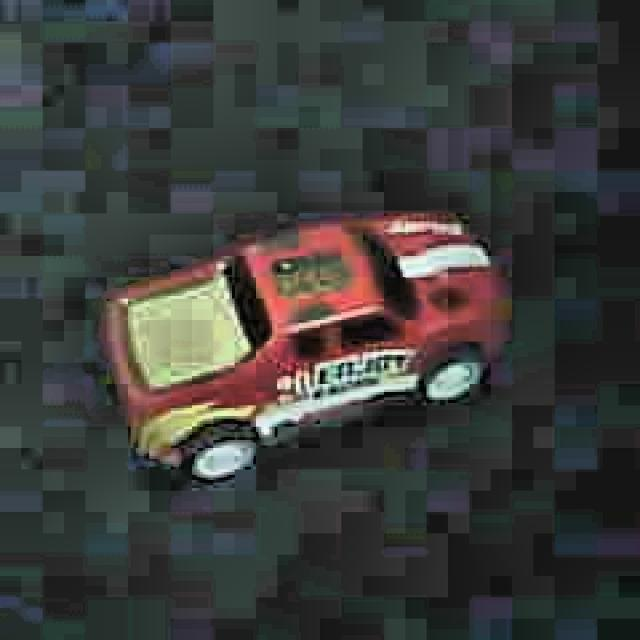car: (92, 204, 515, 482)
